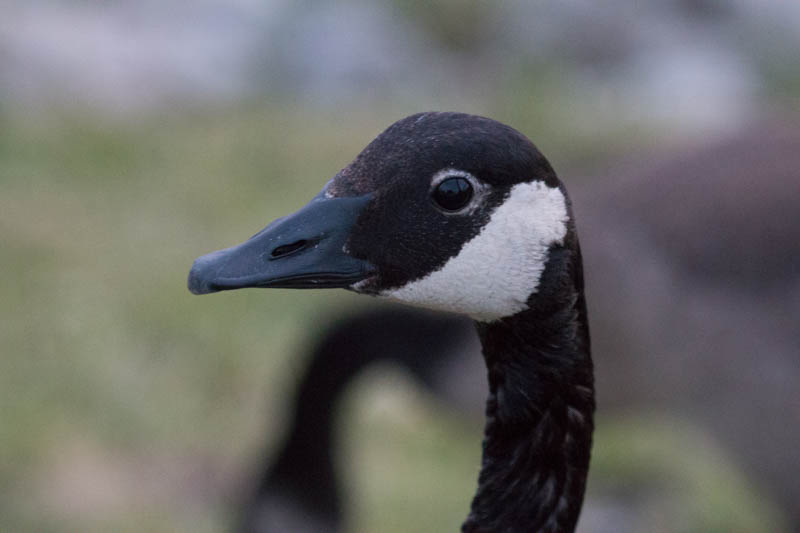goose-head: (186, 112, 584, 324)
